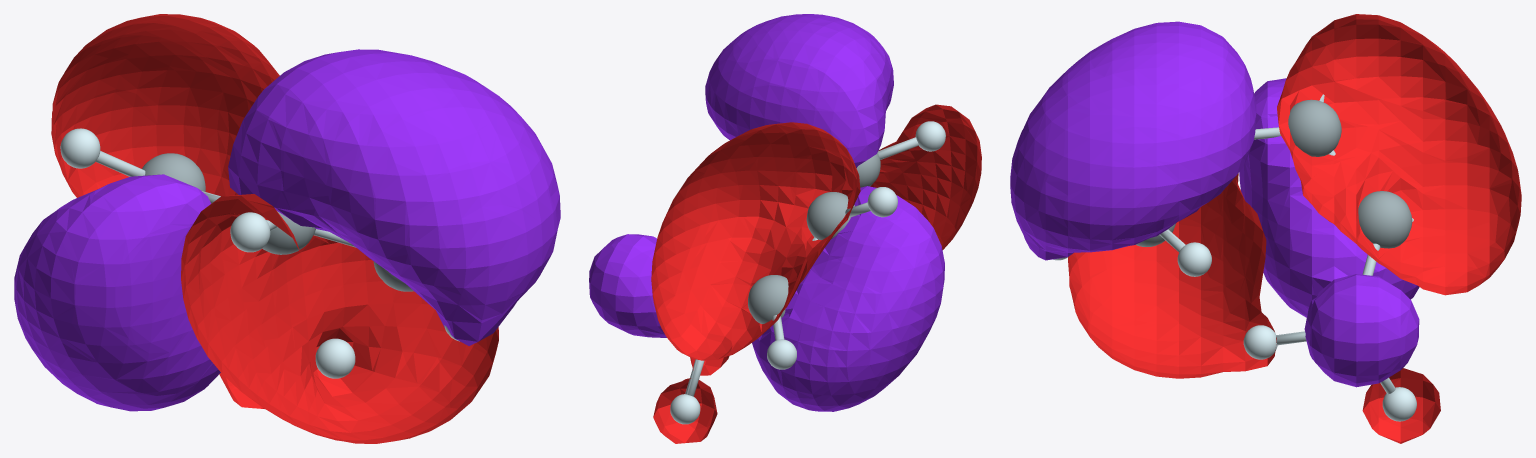
3 renders of one model, left to right at view 1: azimuth 30°, elevation 25°; view 2: azimuth 150°, elevation 25°; view 3: azimuth 270°, elevation 25°, orthographic. The views are drawn at different scales.
Visible parts, largest first — view 1: Renderer Node; view 2: Renderer Node; view 3: Renderer Node.
Boxes of the visible parts, x1,y1,x2,y2 form: Renderer Node: [14, 14, 560, 443]; Renderer Node: [589, 14, 981, 443]; Renderer Node: [1010, 14, 1521, 443].
Size of the model in its own units: 4.82 by 5 by 5.93.
